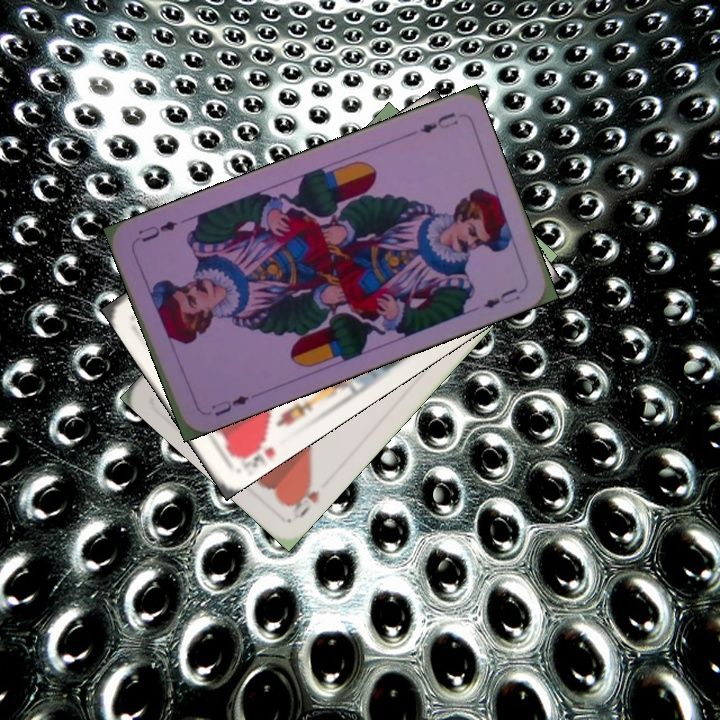EU: (416, 108, 462, 136), (207, 391, 252, 419)
HK: (229, 429, 278, 462)
HO: (284, 474, 322, 521)
